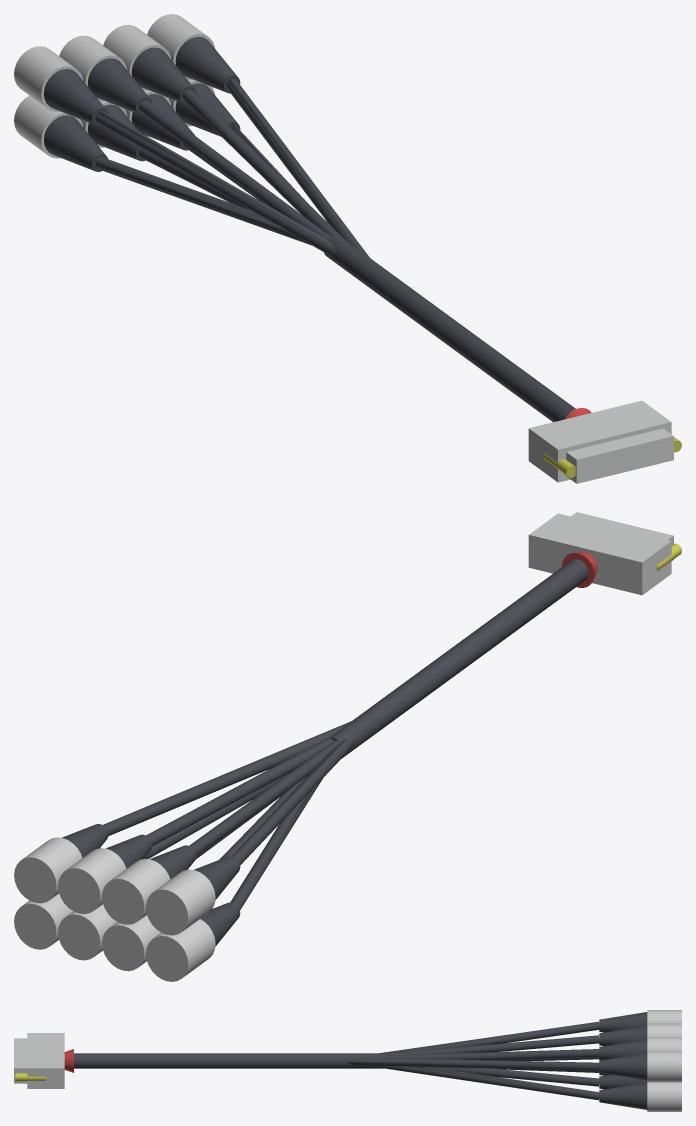
File: mogami-gold-db25-xlrm.glb
3 renders of one model, top to bottom at view 1: azimuth 30°, elevation 25°; view 2: azimuth 150°, elevation 25°; view 3: azimuth 270°, elevation 25°, orthographic. The views are drawn at different scales.
Visible parts, largest first — view 1: mogami-gold-db25-xlrm-body; view 2: mogami-gold-db25-xlrm-body; view 3: mogami-gold-db25-xlrm-body.
Part boxes in pixels (bbox=[...]): mogami-gold-db25-xlrm-body: bbox=[14, 14, 681, 483]; mogami-gold-db25-xlrm-body: bbox=[14, 512, 681, 981]; mogami-gold-db25-xlrm-body: bbox=[14, 1010, 681, 1111].
Bounding box in the file's own units: 0.096 × 0.048 × 0.5.
